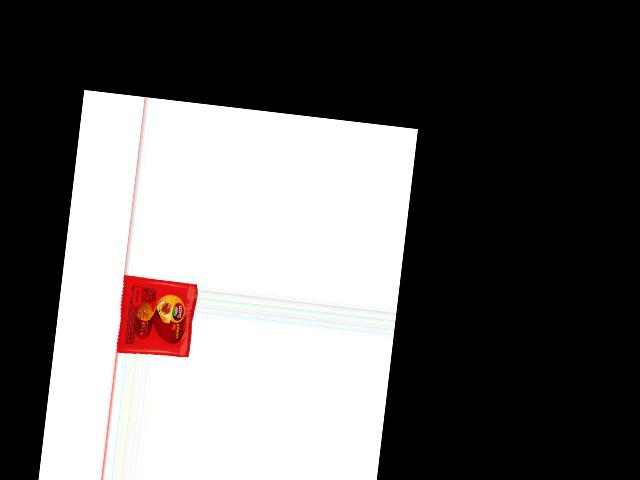cheese: (114, 274, 197, 358)
